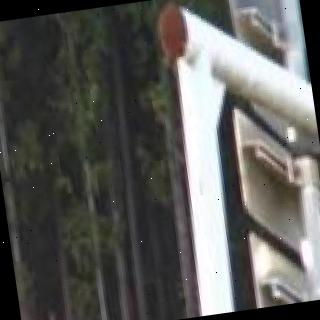fire: (7, 220, 37, 320)
